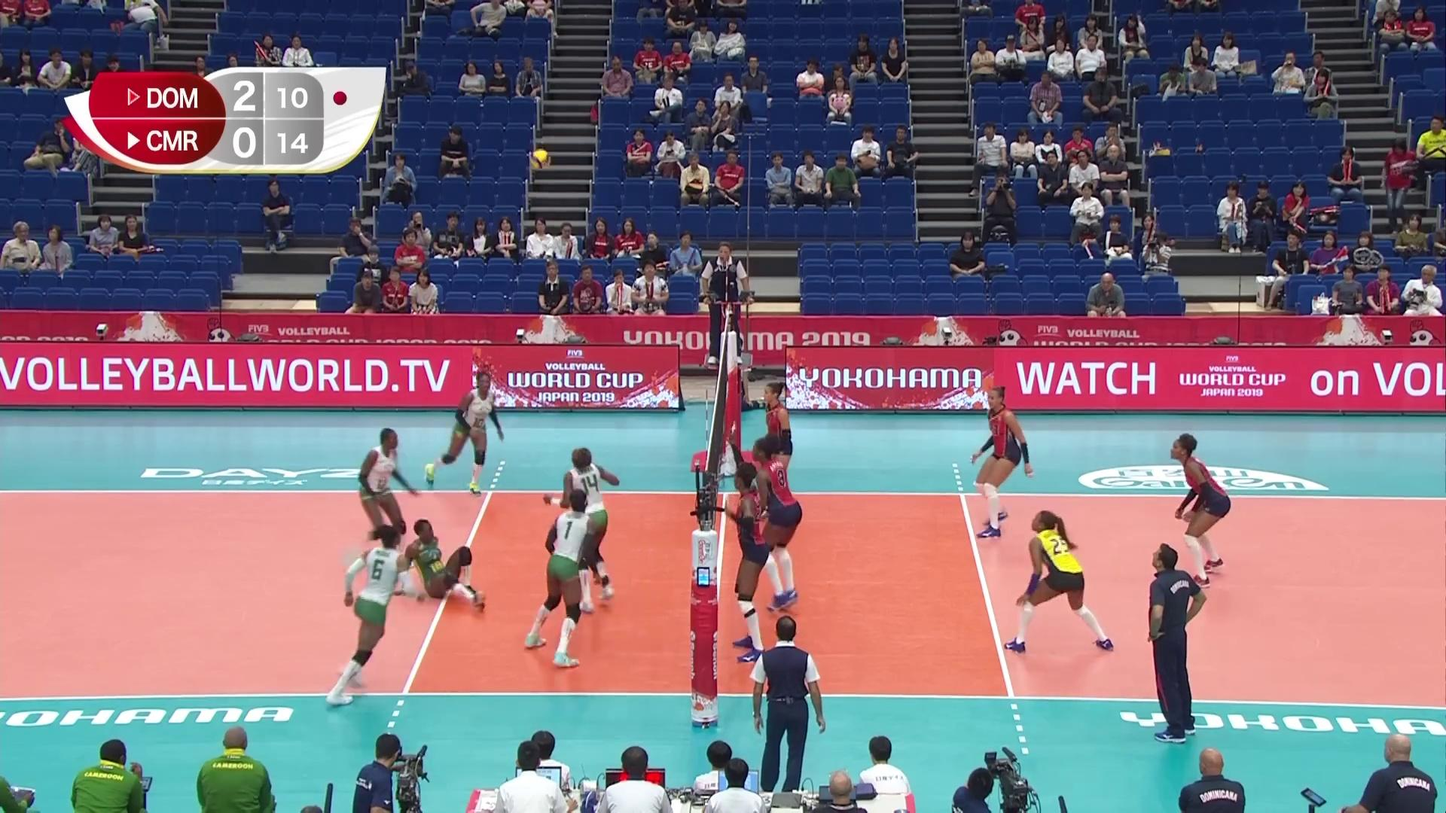player: (329, 526, 424, 706), (1001, 510, 1115, 652), (525, 489, 603, 668), (347, 429, 419, 595), (544, 447, 620, 600), (423, 372, 505, 494), (1169, 432, 1233, 585), (970, 387, 1033, 539), (752, 432, 804, 608), (726, 445, 767, 661), (398, 520, 487, 611), (752, 379, 792, 518)
refree: (753, 615, 826, 791), (700, 243, 750, 364)
